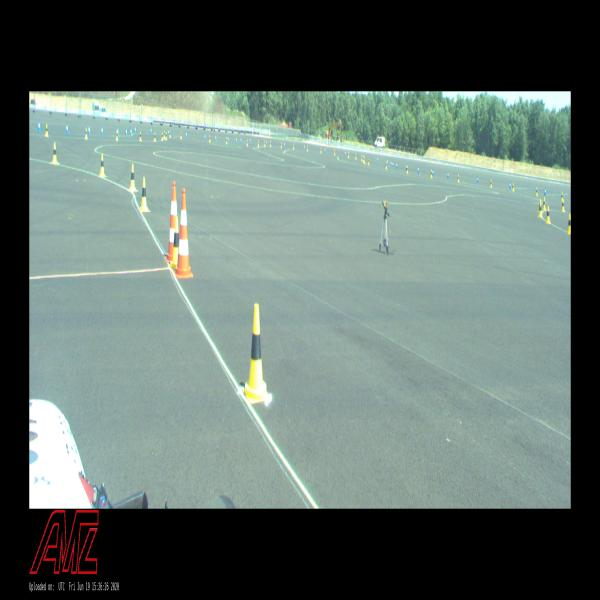blue_cone: (66, 123, 68, 134), (38, 121, 40, 131), (88, 125, 90, 135), (102, 126, 104, 135), (130, 127, 132, 135), (417, 166, 419, 173), (150, 127, 152, 134), (432, 169, 434, 176), (392, 161, 394, 168), (447, 172, 449, 178), (240, 137, 242, 143), (215, 135, 217, 141), (204, 134, 206, 140), (509, 182, 511, 188), (168, 130, 170, 136), (227, 136, 229, 142), (390, 160, 392, 166), (344, 151, 346, 156), (266, 140, 268, 145), (126, 127, 127, 136), (118, 127, 119, 136), (324, 148, 326, 152), (477, 176, 478, 183), (545, 188, 546, 195), (186, 132, 187, 138), (236, 137, 237, 143), (135, 126, 136, 132), (250, 138, 251, 144), (387, 159, 388, 165), (406, 164, 407, 170), (396, 162, 397, 168), (377, 157, 378, 162), (304, 145, 305, 149), (284, 142, 284, 148)
large_orange_cone: (174, 190, 194, 277), (165, 182, 177, 262)
yellow_cone: (242, 304, 268, 404), (169, 216, 178, 267), (141, 177, 148, 211), (129, 164, 136, 190), (99, 154, 105, 176), (52, 143, 57, 164), (546, 206, 551, 223), (539, 200, 542, 217), (538, 198, 541, 213), (568, 214, 570, 233), (543, 197, 546, 209), (85, 128, 88, 139), (139, 132, 142, 141), (46, 125, 48, 136), (562, 200, 564, 210), (116, 130, 118, 140), (154, 133, 156, 142), (490, 180, 492, 188), (180, 132, 182, 139), (536, 188, 538, 195), (209, 135, 211, 142), (561, 193, 563, 200), (361, 155, 363, 161), (264, 141, 266, 147), (166, 131, 167, 140), (513, 183, 514, 191), (320, 148, 322, 152), (162, 132, 163, 140), (431, 170, 432, 178), (170, 130, 171, 138), (407, 166, 408, 173), (458, 175, 459, 182), (258, 140, 259, 147), (164, 131, 165, 138), (226, 137, 227, 144), (247, 140, 248, 146), (386, 162, 387, 168), (293, 144, 294, 150), (270, 141, 271, 147), (348, 152, 349, 158), (334, 150, 335, 156), (363, 156, 364, 162), (281, 142, 282, 148), (364, 157, 365, 163), (368, 158, 369, 164), (356, 154, 357, 159), (307, 146, 308, 150)
